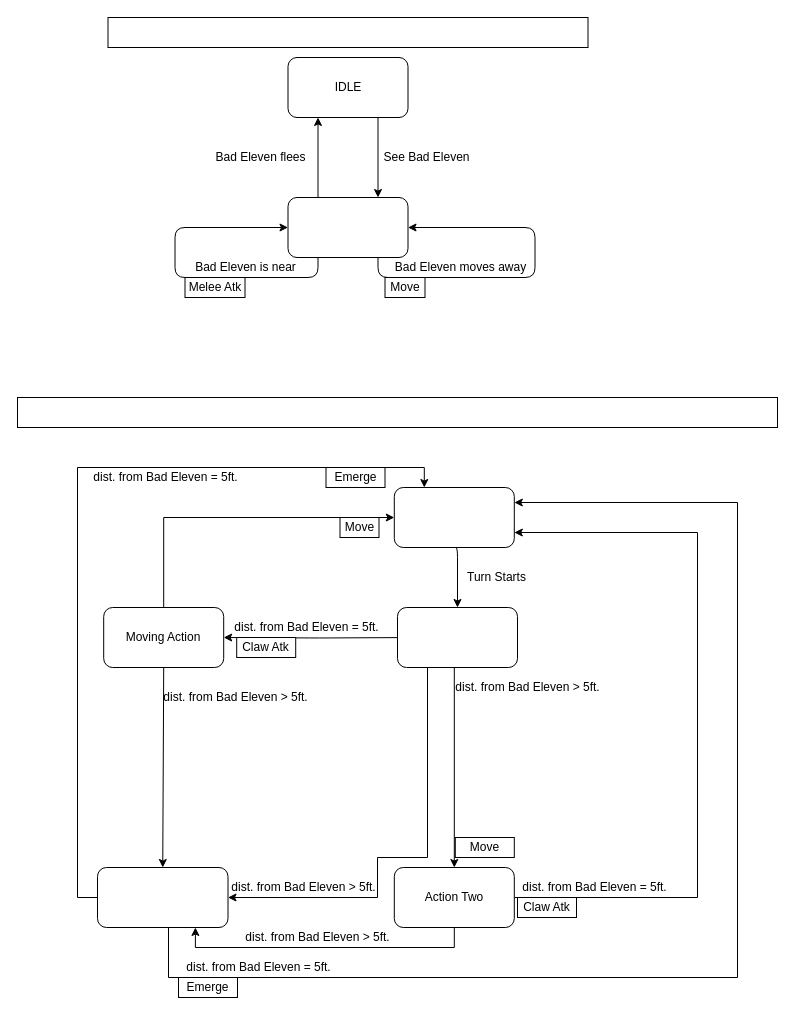
The diagram is 795 pixels wide and 1015 high, and some of its shapes have lost their labels. Here are the shapes that lost their labels. From the top down, the centre of each, then its label:
(x=347, y=32): Free Roaming
(x=347, y=227): AGGRESSIVE
(x=397, y=412): Battle Mode
(x=453, y=517): Wait Turn
(x=457, y=637): Action One
(x=162, y=897): Submerge
